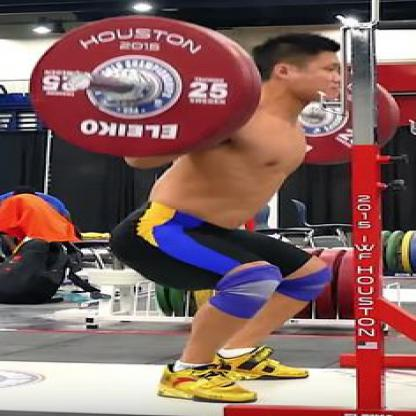Barbell: (18, 12, 269, 164)
